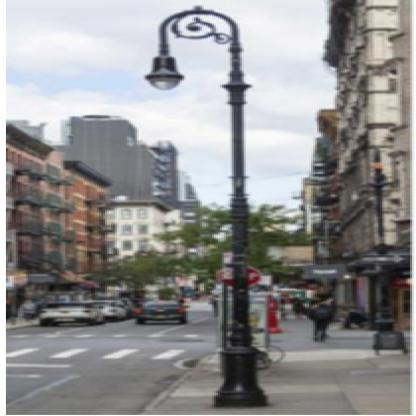Streetlights 1: (137, 3, 303, 410)
